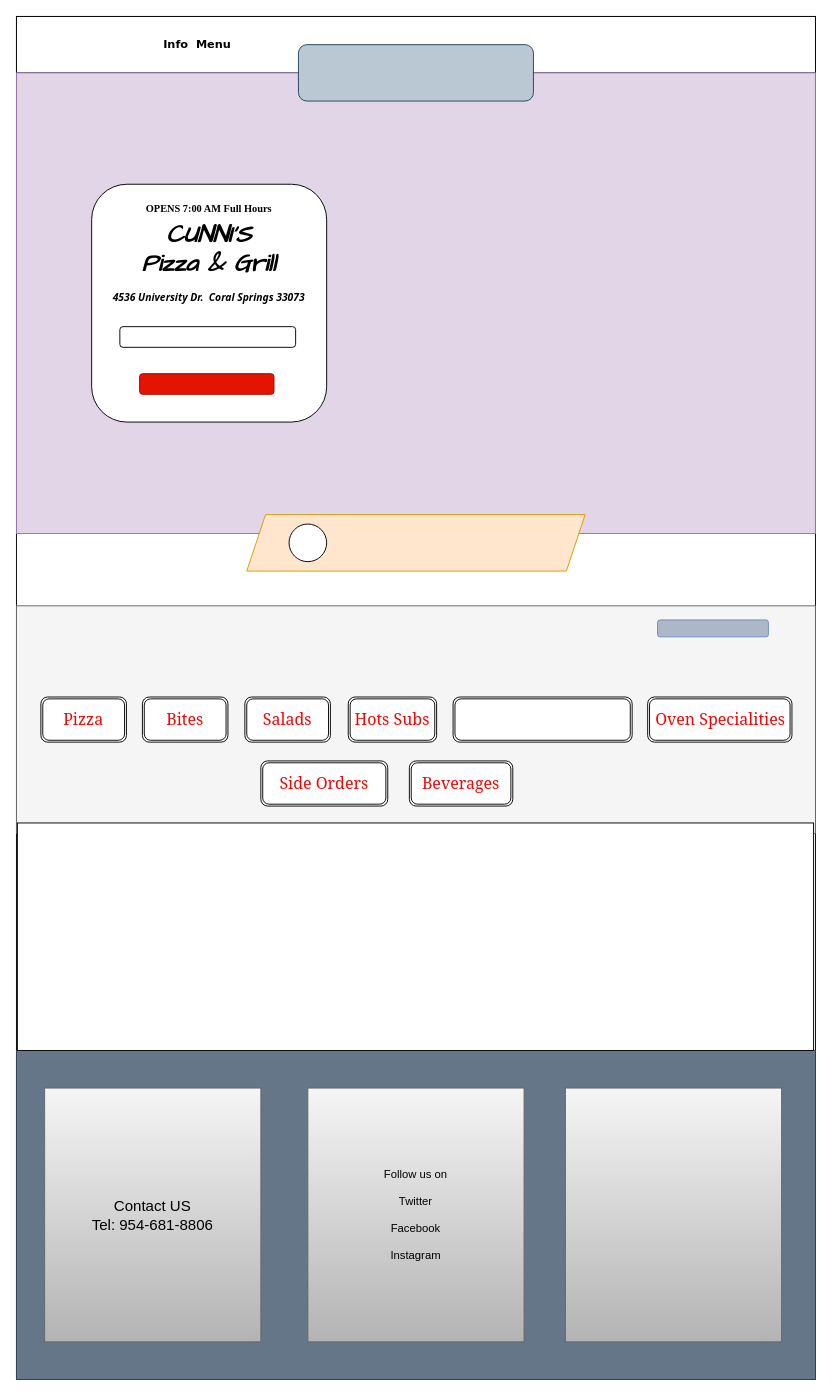
The diagram is 832 pixels wide and 1396 high, and some of its shapes have lost their labels. The shapes that lost their labels are listed below. From the top down, each one's box as (x1, y1, x2, y2) in pixels, then its label:
(298, 44, 533, 101): ACCEPTS CARDS
(119, 326, 296, 347): SAVE 5% - order online!
(139, 373, 274, 394): Order ahead
(657, 619, 768, 637): See full menu
(452, 696, 632, 742): On The Grill Burgers
